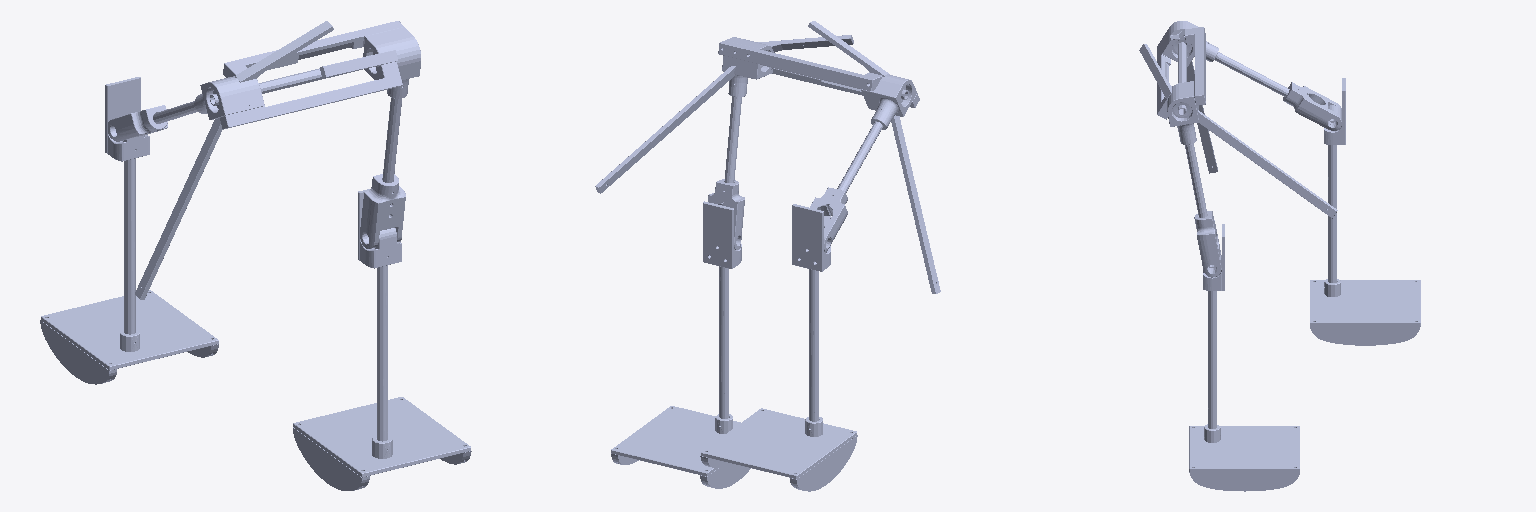
URDF robot description (ramp_meshes_1):
<?xml version="1.0" encoding="utf-8"?>
<!-- This URDF was automatically created by SolidWorks to URDF Exporter! Originally created by [author] ([email redacted]) 
     Commit Version: 1.6.0-4-g7f85cfe  Build Version: 1.6.7995.38578
     For more information, please see http://wiki.ros.org/sw_urdf_exporter -->
<robot
  name="ramp_meshes_1">
  <link
    name="right_lower_leg_link">
    <inertial>
      <origin
        xyz="-0.0615053146451188 -0.008054147483954 0.0644104745433465"
        rpy="0 0 0" />
      <mass
        value="0.123883133217275" />
      <inertia
        ixx="0.000128415612995708"
        ixy="-1.74091858241873E-06"
        ixz="4.6598543660348E-07"
        iyy="8.22570949980407E-05"
        iyz="8.28711938867076E-07"
        izz="0.00015823792993869" />
    </inertial>
    <visual>
      <origin
        xyz="0 0 0"
        rpy="0 0 0" />
      <geometry>
        <mesh
          filename="package://ramp_meshes_1/meshes/right_lower_leg_link.STL" />
      </geometry>
      <material
        name="">
        <color
          rgba="0.792156862745098 0.819607843137255 0.933333333333333 1" />
      </material>
    </visual>
    <collision>
      <origin
        xyz="0 0 0"
        rpy="0 0 0" />
      <geometry>
        <mesh
          filename="package://ramp_meshes_1/meshes/right_lower_leg_link.STL" />
      </geometry>
    </collision>
  </link>
  <link
    name="right_upper_leg_link">
    <inertial>
      <origin
        xyz="-0.0562828876412978 0.00500191107012748 0.141489644097149"
        rpy="0 0 0" />
      <mass
        value="0.101399403255084" />
      <inertia
        ixx="0.000114286085966719"
        ixy="-1.47157629045173E-06"
        ixz="-4.99355146038688E-05"
        iyy="0.000215178375299073"
        iyz="-4.87911538527944E-07"
        izz="0.000109741610710701" />
    </inertial>
    <visual>
      <origin
        xyz="0 0 0"
        rpy="0 0 0" />
      <geometry>
        <mesh
          filename="package://ramp_meshes_1/meshes/right_upper_leg_link.STL" />
      </geometry>
      <material
        name="">
        <color
          rgba="0.792156862745098 0.819607843137255 0.933333333333333 1" />
      </material>
    </visual>
    <collision>
      <origin
        xyz="0 0 0"
        rpy="0 0 0" />
      <geometry>
        <mesh
          filename="package://ramp_meshes_1/meshes/right_upper_leg_link.STL" />
      </geometry>
    </collision>
  </link>
  <joint
    name="right_knee_joint"
    type="revolute">
    <origin
      xyz="-0.069 -0.035 0.23789"
      rpy="0.17453 0 0" />
    <parent
      link="right_lower_leg_link" />
    <child
      link="right_upper_leg_link" />
    <axis
      xyz="1 0 0" />
    <limit
      lower="0"
      upper="1.57"
      effort="0"
      velocity="0" />
  </joint>
  <link
    name="right_hip_link">
    <inertial>
      <origin
        xyz="-0.1 -1.11022302462516E-16 -7.63278329429795E-17"
        rpy="0 0 0" />
      <mass
        value="0.00565486677646163" />
      <inertia
        ixx="1.15924768917463E-07"
        ixy="-2.08628598142635E-20"
        ixz="-1.42085772761506E-20"
        iyy="1.89075183059975E-05"
        iyz="9.73135805409247E-38"
        izz="1.89075183059975E-05" />
    </inertial>
    <visual>
      <origin
        xyz="0 0 0"
        rpy="0 0 0" />
      <geometry>
        <mesh
          filename="package://ramp_meshes_1/meshes/right_hip_link.STL" />
      </geometry>
      <material
        name="">
        <color
          rgba="0.792156862745098 0.819607843137255 0.933333333333333 1" />
      </material>
    </visual>
    <collision>
      <origin
        xyz="0 0 0"
        rpy="0 0 0" />
      <geometry>
        <mesh
          filename="package://ramp_meshes_1/meshes/right_hip_link.STL" />
      </geometry>
    </collision>
  </link>
  <joint
    name="right_hip_joint"
    type="revolute">
    <origin
      xyz="0.0052304 0 0.188"
      rpy="-0.17453 0 0" />
    <parent
      link="right_upper_leg_link" />
    <child
      link="right_hip_link" />
    <axis
      xyz="-1 0 0" />
    <limit
      lower="0"
      upper="0"
      effort="0"
      velocity="0" />
  </joint>
  <link
    name="left_hip_link">
    <inertial>
      <origin
        xyz="-0.0383599176983876 0.0377734198436392 -0.0275215999400935"
        rpy="0 0 0" />
      <mass
        value="0.101399353812015" />
      <inertia
        ixx="0.000112959153864931"
        ixy="-4.46338507586178E-05"
        ixz="2.40701570964538E-05"
        iyy="0.000136800112572608"
        iyz="4.49100418656083E-05"
        izz="0.000189446793501919" />
    </inertial>
    <visual>
      <origin
        xyz="0 0 0"
        rpy="0 0 0" />
      <geometry>
        <mesh
          filename="package://ramp_meshes_1/meshes/left_hip_link.STL" />
      </geometry>
      <material
        name="">
        <color
          rgba="0.792156862745098 0.819607843137255 0.933333333333333 1" />
      </material>
    </visual>
    <collision>
      <origin
        xyz="0 0 0"
        rpy="0 0 0" />
      <geometry>
        <mesh
          filename="package://ramp_meshes_1/meshes/left_hip_link.STL" />
      </geometry>
    </collision>
  </link>
  <joint
    name="left_hip_joint"
    type="revolute">
    <origin
      xyz="-0.1 0 0"
      rpy="0 0 0" />
    <parent
      link="right_hip_link" />
    <child
      link="left_hip_link" />
    <axis
      xyz="-1 0 0" />
    <limit
      lower="0"
      upper="0"
      effort="0"
      velocity="0" />
  </joint>
  <link
    name="left_lower_leg_link">
    <inertial>
      <origin
        xyz="-0.0895053146451189 -0.136765391576967 -0.11007592605015"
        rpy="0 0 0" />
      <mass
        value="0.123883133217276" />
      <inertia
        ixx="0.000128415612995708"
        ixy="-4.6690406531709E-07"
        ixz="1.74067243659666E-06"
        iyy="0.000139960406795007"
        iyz="3.24863106602432E-05"
        izz="0.000100534618141724" />
    </inertial>
    <visual>
      <origin
        xyz="0 0 0"
        rpy="0 0 0" />
      <geometry>
        <mesh
          filename="package://ramp_meshes_1/meshes/left_lower_leg_link.STL" />
      </geometry>
      <material
        name="">
        <color
          rgba="0.792156862745098 0.819607843137255 0.933333333333333 1" />
      </material>
    </visual>
    <collision>
      <origin
        xyz="0 0 0"
        rpy="0 0 0" />
      <geometry>
        <mesh
          filename="package://ramp_meshes_1/meshes/left_lower_leg_link.STL" />
      </geometry>
    </collision>
  </link>
  <joint
    name="left_knee_joint"
    type="revolute">
    <origin
      xyz="0.014226 0.16281 -0.094"
      rpy="1.0472 0 0" />
    <parent
      link="left_hip_link" />
    <child
      link="left_lower_leg_link" />
    <axis
      xyz="1 0 0" />
    <limit
      lower="0"
      upper="1.57"
      effort="0"
      velocity="0" />
  </joint>
</robot>

--- Facts derived from the render (not from the file) ---
3 views of the same robot in one strip: view 1: azimuth 30°, elevation 25°; view 2: azimuth 150°, elevation 25°; view 3: azimuth 270°, elevation 25° (orthographic).
Model ramp_meshes_1 with 5 links and 4 joints (4 revolute), rooted at right_lower_leg_link, posed all joints at 0.
Visible links, largest first — view 1: left_lower_leg_link, right_lower_leg_link, right_upper_leg_link, left_hip_link, right_hip_link; view 2: left_lower_leg_link, right_lower_leg_link, right_upper_leg_link, left_hip_link; view 3: left_lower_leg_link, right_lower_leg_link, left_hip_link, right_upper_leg_link.
Link boxes in pixels (x1,y1,x2,y2): left_lower_leg_link: (40, 77, 218, 384); right_lower_leg_link: (293, 189, 471, 490); right_upper_leg_link: (135, 21, 420, 299); left_hip_link: (108, 50, 402, 141); right_hip_link: (210, 66, 375, 105); left_lower_leg_link: (700, 204, 857, 491); right_lower_leg_link: (611, 201, 750, 488); right_upper_leg_link: (708, 21, 940, 293); left_hip_link: (595, 35, 919, 252); left_lower_leg_link: (1310, 78, 1420, 345); right_lower_leg_link: (1189, 224, 1299, 491); left_hip_link: (1139, 21, 1341, 218); right_upper_leg_link: (1167, 27, 1221, 277).
Bounding box of the posed robot: 0.3199 × 0.3042 × 0.4814 m (x, y, z).
5 mesh visuals loaded from 5 distinct referenced files (5 binary STL).